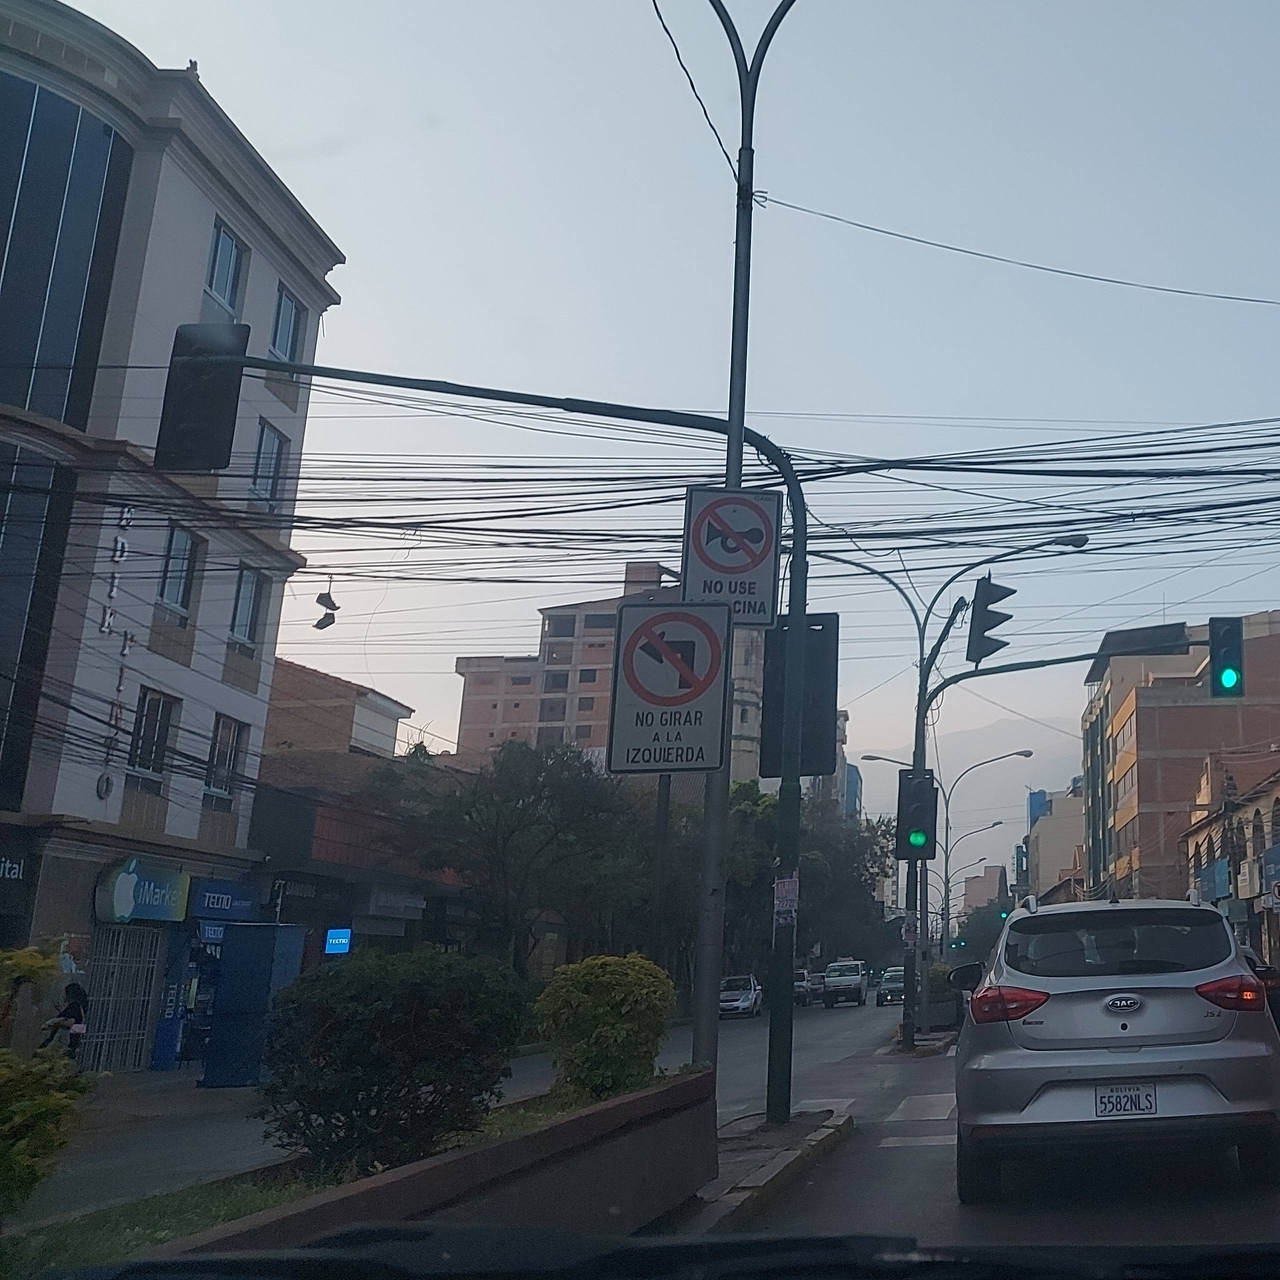prohibido-girar-izquierda: (607, 601, 731, 775)
